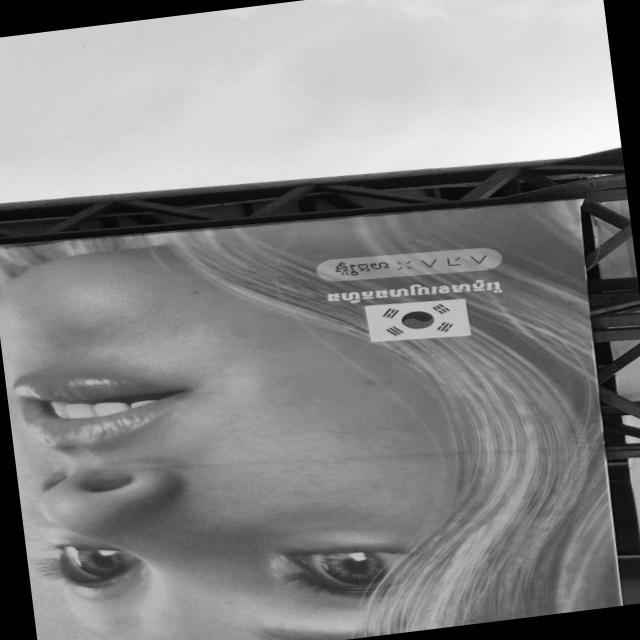Yolov11kh: (315, 270, 524, 310), (321, 255, 396, 280)
